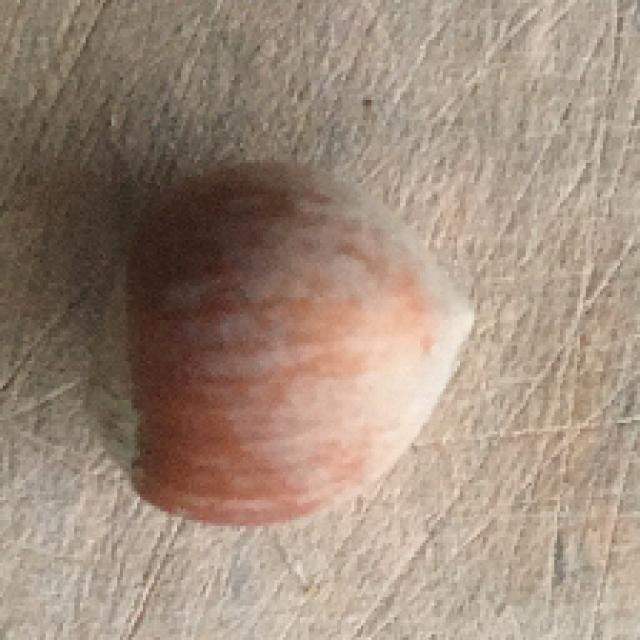qualityHazelnut: (75, 158, 481, 532)
